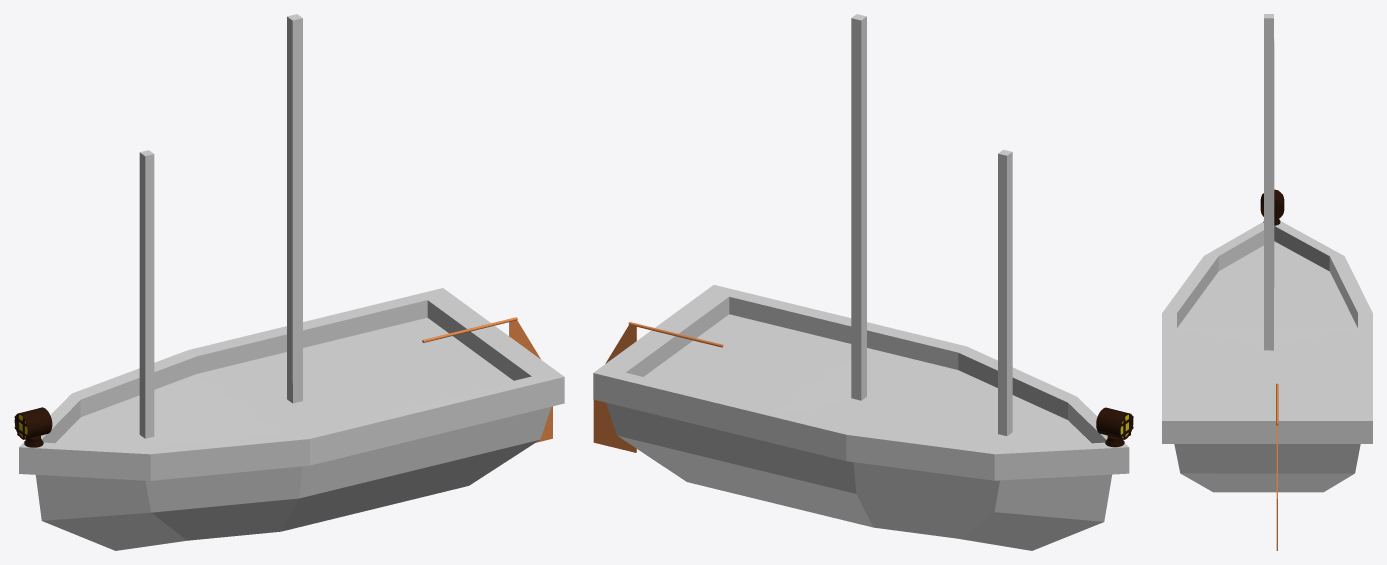
The model's file is Barco.fbx.
3 renders of one model, left to right at view 1: azimuth 30°, elevation 25°; view 2: azimuth 150°, elevation 25°; view 3: azimuth 270°, elevation 25°, orthographic. The views are drawn at different scales.
Parts seen in each view (by area): view 1: Barco, Faro, Timon; view 2: Barco, Timon, Faro; view 3: Barco, Faro, Timon.
Boxes of the visible parts, x1=… form: Barco: x1=19, y1=14, x2=564, y2=550; Faro: x1=14, y1=407, x2=52, y2=447; Timon: x1=422, y1=317, x2=552, y2=442; Barco: x1=593, y1=14, x2=1129, y2=550; Timon: x1=593, y1=322, x2=723, y2=452; Faro: x1=1096, y1=407, x2=1133, y2=447; Barco: x1=1162, y1=14, x2=1372, y2=492; Faro: x1=1260, y1=189, x2=1284, y2=225; Timon: x1=1276, y1=383, x2=1278, y2=550.
Bounding box in the file's own units: 4391 × 3893 × 1723.
